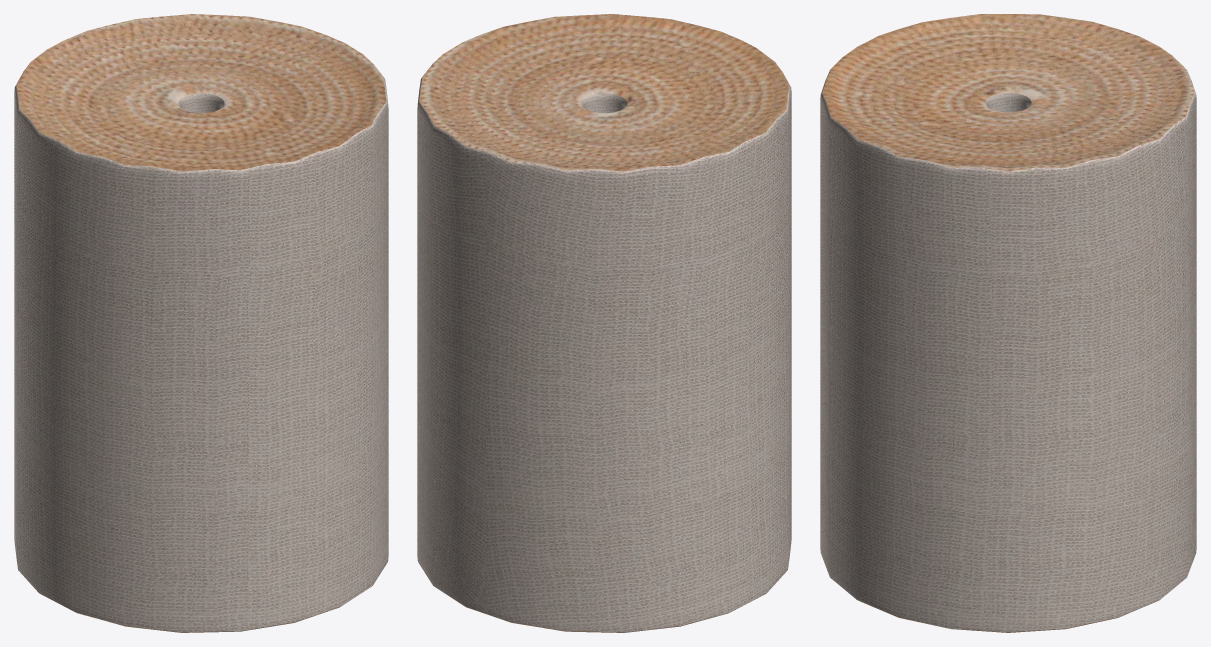
File: perban-compressed.glb
The picture shows the model from 3 angles, left to right: view 1: azimuth 30°, elevation 25°; view 2: azimuth 150°, elevation 25°; view 3: azimuth 270°, elevation 25°; orthographic projection.
Parts seen in each view (by area): view 1: bandageroll; view 2: bandageroll; view 3: bandageroll.
Boxes of the visible parts, x1,y1,x2,y2 form: bandageroll: (14,14,388,632); bandageroll: (417,14,791,632); bandageroll: (820,14,1196,632).
Size of the model in its own units: 5.84 by 7.93 by 5.84.
Materials: 1 (1 with a texture image).
